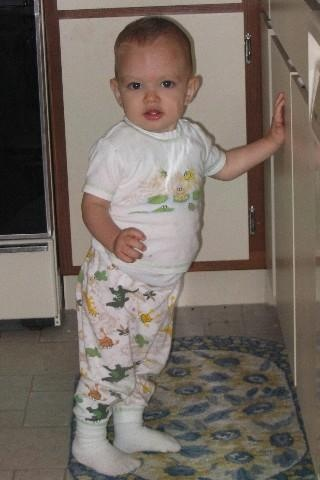head: (108, 15, 203, 132)
person: (70, 5, 291, 475)
